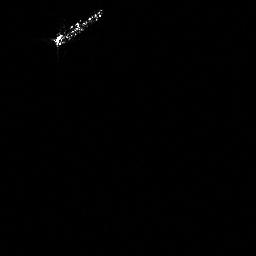ship: (48, 5, 105, 50)
